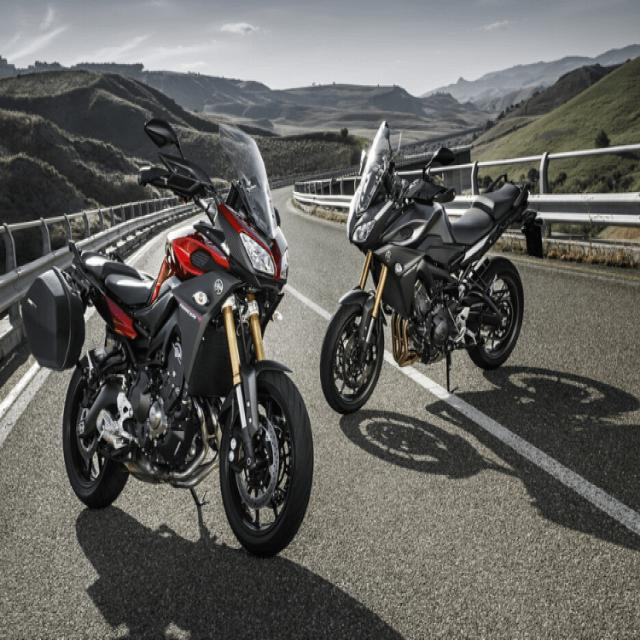Motorcycle: (22, 119, 313, 555), (322, 122, 544, 413)
